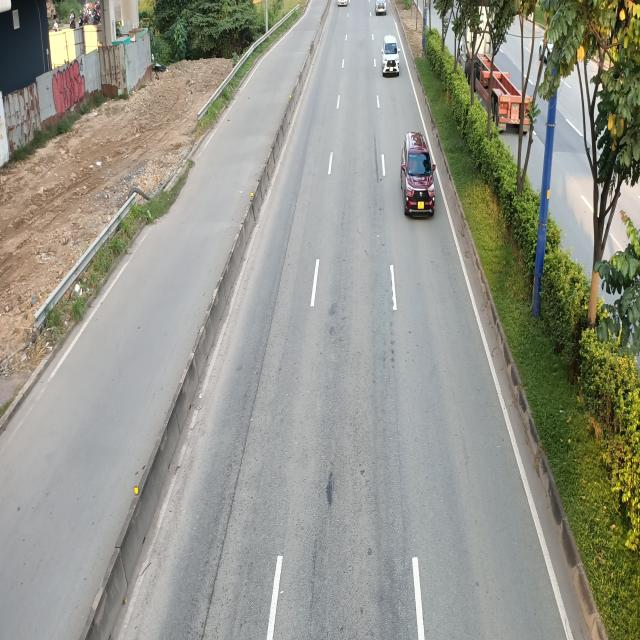car: (401, 134, 437, 220), (381, 36, 400, 76)
